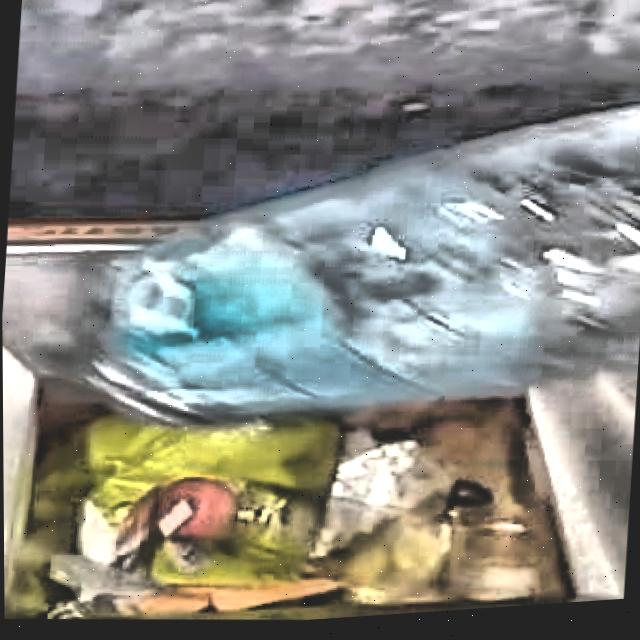plastic: (92, 119, 640, 422)
